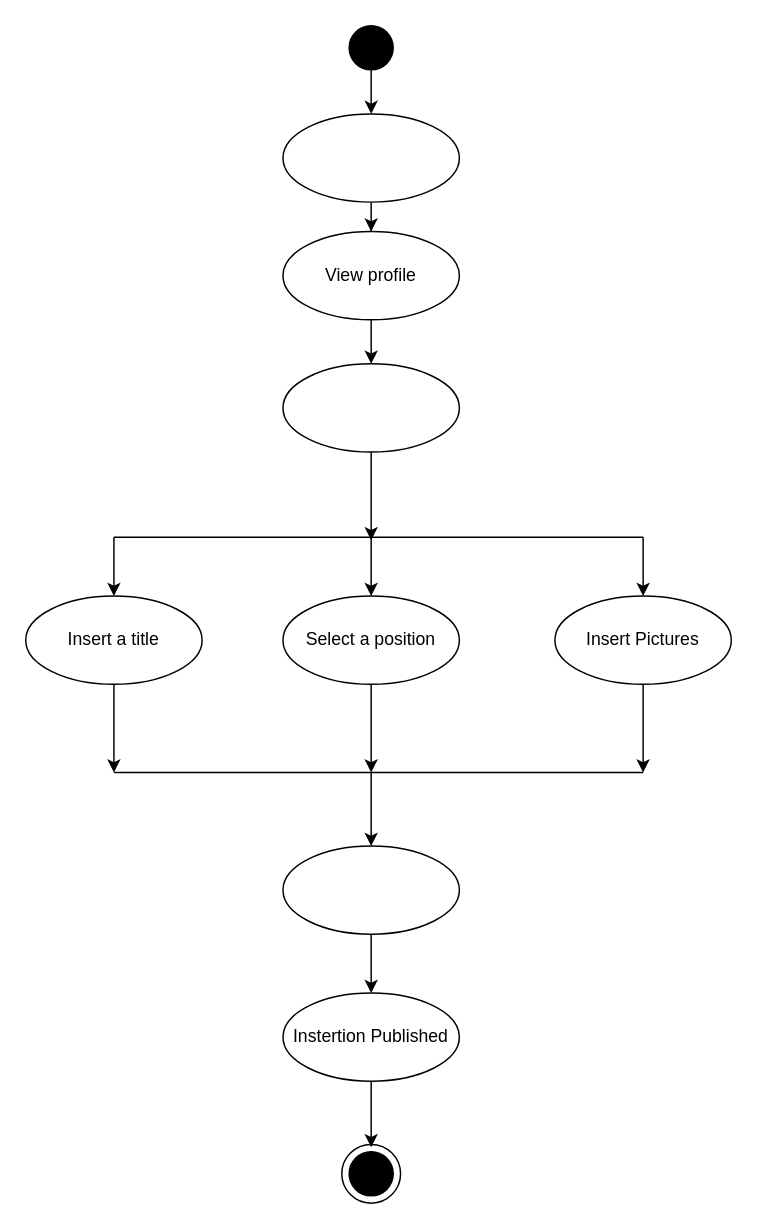
This 757x1229 diagram has some shape labels left out. Each missing label, with the box of its shape:
Login*: (282, 112, 459, 202)
New Insertion: (282, 362, 459, 452)
Review Insertion: (282, 845, 459, 934)
